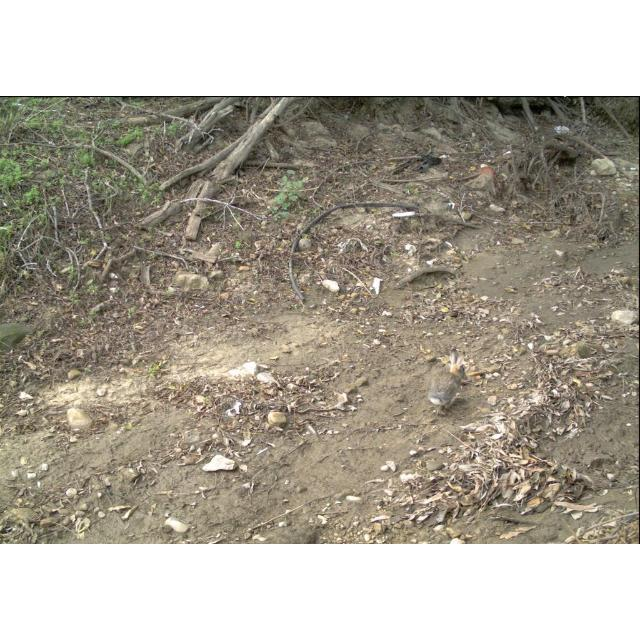animals: (423, 350, 473, 420)
